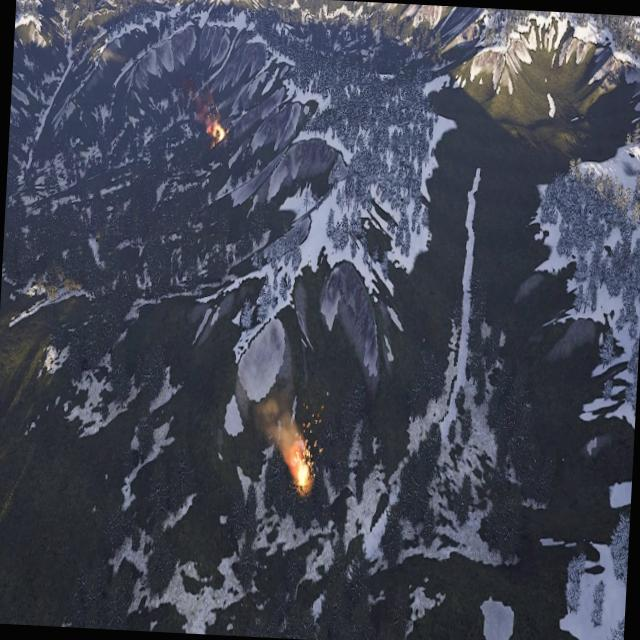fire: (288, 440, 316, 492), (209, 121, 227, 145)
smoke: (256, 393, 308, 468), (184, 74, 220, 124)
